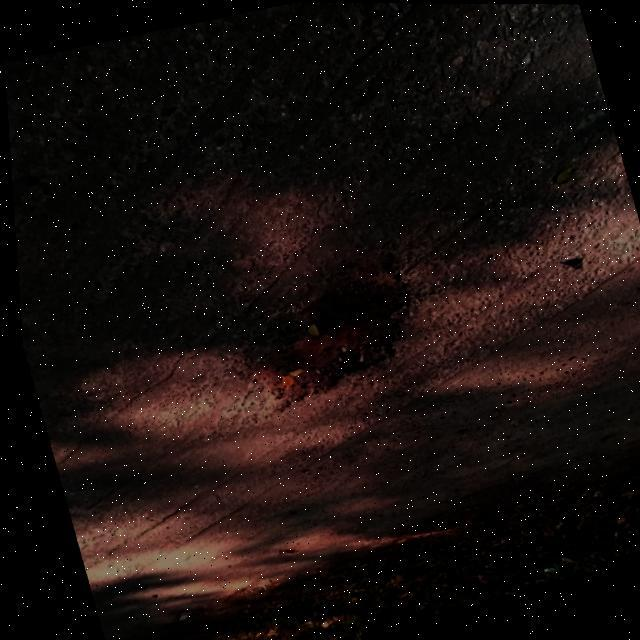pothole: (224, 242, 430, 416)
